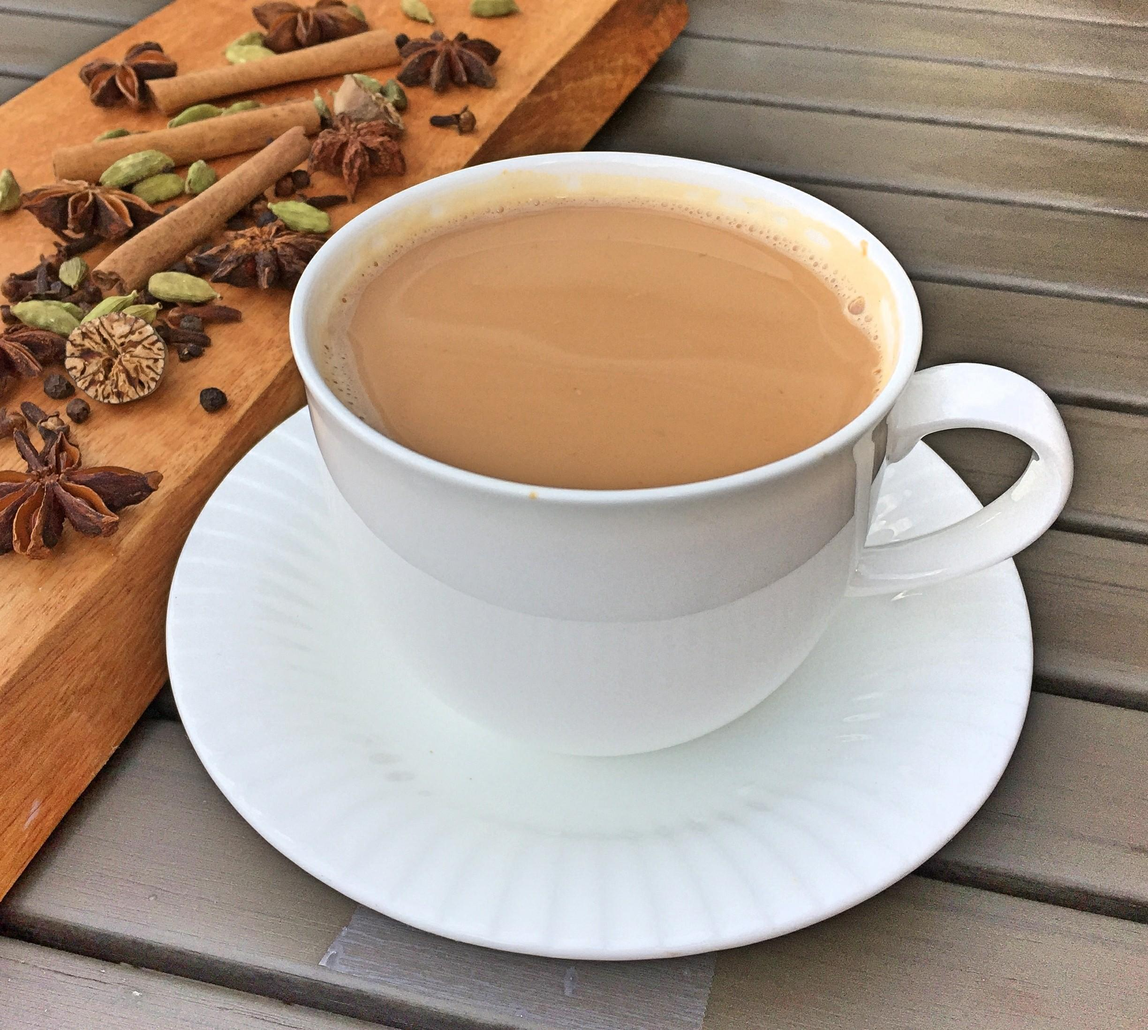Chai: (323, 195, 891, 486)
